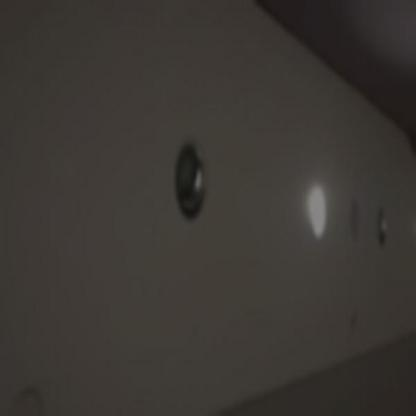light_off: (164, 115, 210, 227), (374, 180, 391, 264)
